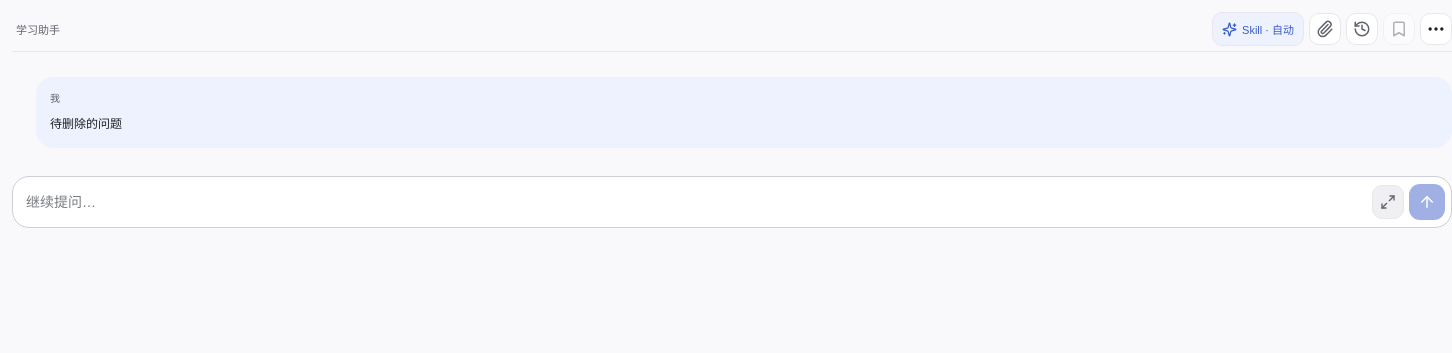
Test: does not recreate a conversation after deleting it from the current chat history
Click the button named "历史对话". click: click(1362, 29)
box: [1346,13,1378,45]
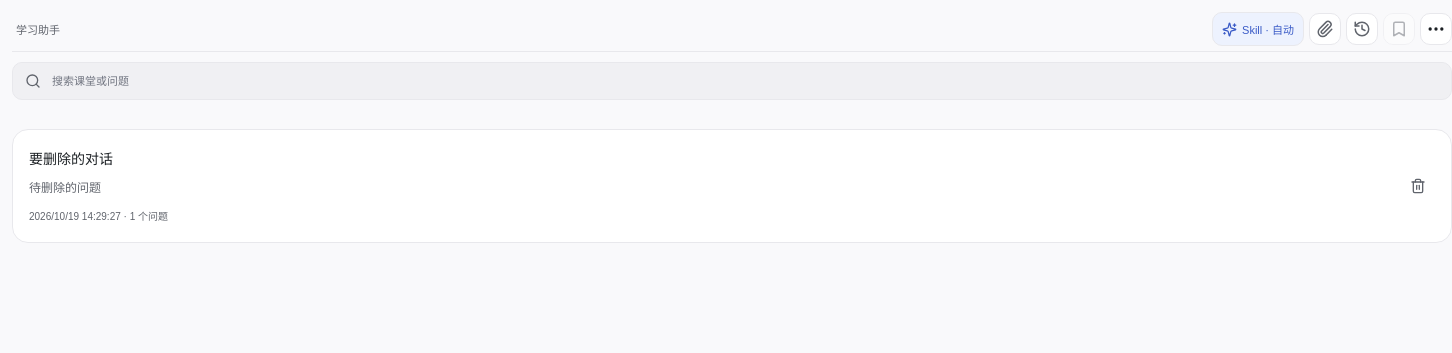
Now the button named "删除对话 要删除的对话" is shown
Click the button named "删除对话 要删除的对话". click: click(1418, 186)
box: [1397,165,1439,207]
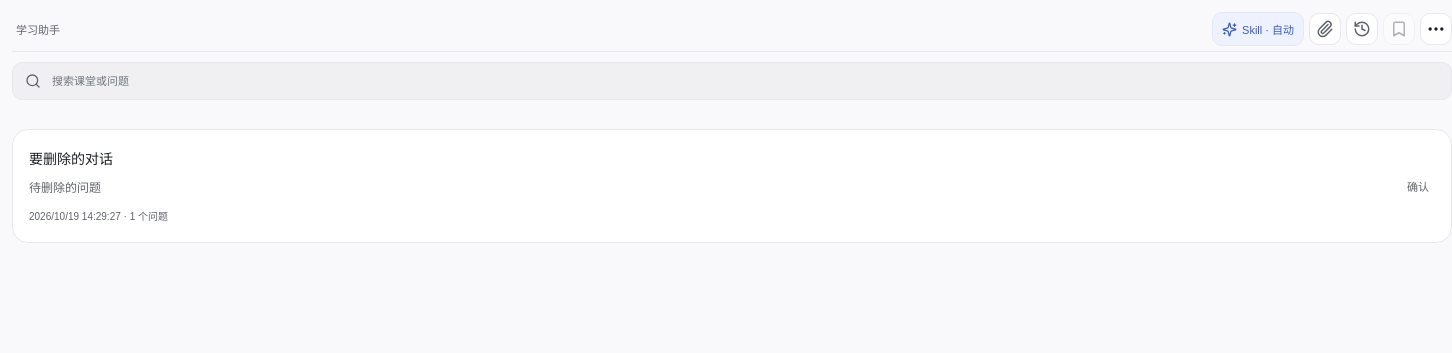
Click the button with aria-label "确认删除对话". click: click(1418, 186)
box: [1397,165,1439,207]
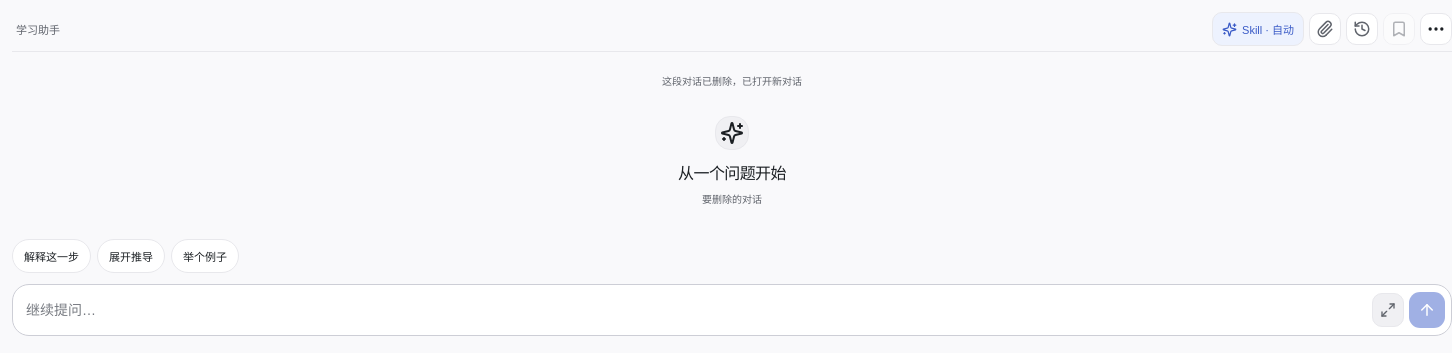
Now the button "确认删除对话" is gone
